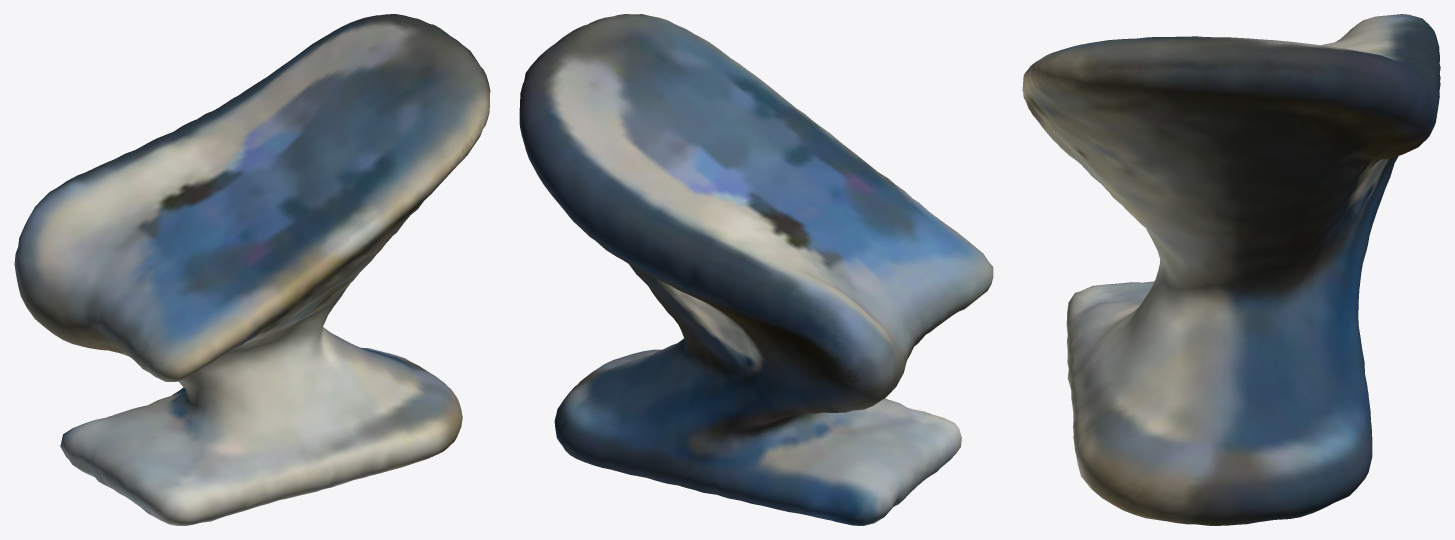
File: overwritte.fbx
3 views of the same model, side by side, from view 1: azimuth 30°, elevation 25°; view 2: azimuth 150°, elevation 25°; view 3: azimuth 270°, elevation 25° (orthographic). The views are drawn at different scales.
Visible parts, largest first — view 1: Mesh1; view 2: Mesh1; view 3: Mesh1.
Part boxes in pixels (x1=…): Mesh1: x1=14, y1=14, x2=490, y2=525; Mesh1: x1=519, y1=14, x2=993, y2=525; Mesh1: x1=1022, y1=14, x2=1440, y2=525.
Bounding box in the file's own units: 120 × 119 × 87.06.
Materials: 1 (1 with a texture image).
